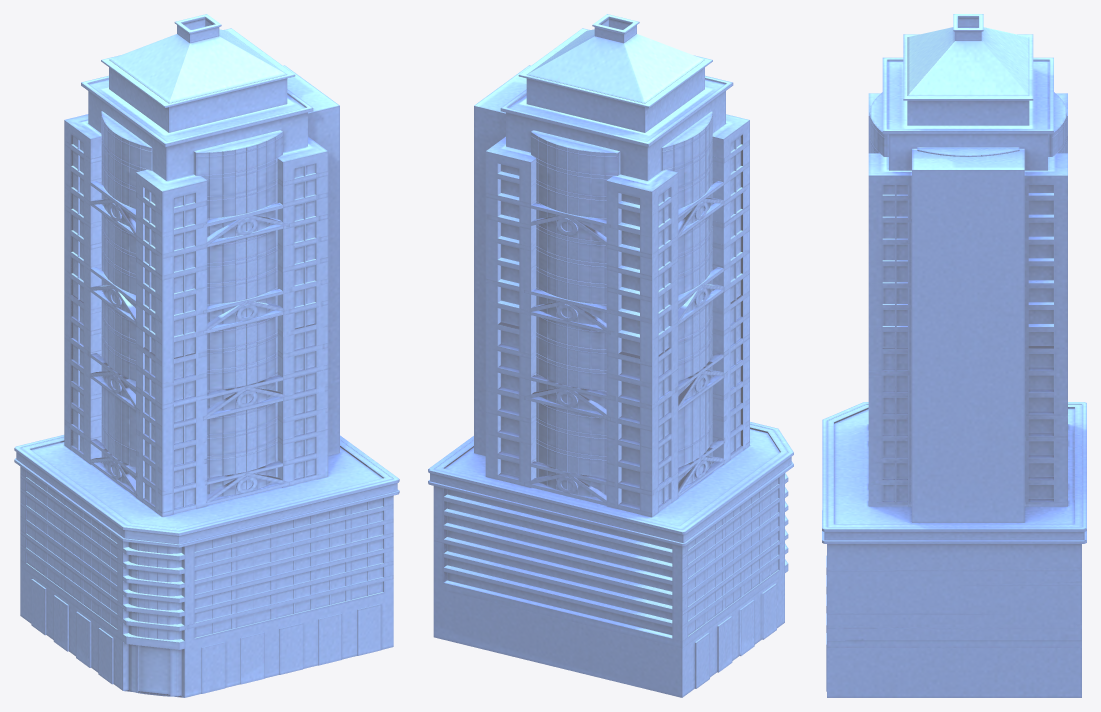
The picture shows the model from 3 angles, left to right: view 1: azimuth 30°, elevation 25°; view 2: azimuth 150°, elevation 25°; view 3: azimuth 270°, elevation 25°; orthographic projection.
Visible parts, largest first — view 1: Empty_Mesh; view 2: Empty_Mesh; view 3: Empty_Mesh.
Part boxes in pixels (left/top/right/bottom): Empty_Mesh: left=14, top=14, right=399, bottom=697; Empty_Mesh: left=428, top=14, right=793, bottom=697; Empty_Mesh: left=822, top=14, right=1086, bottom=697.
Size of the model in its own units: 8.27 by 18.54 by 7.25.
Materials: 1 (1 with a texture image).
